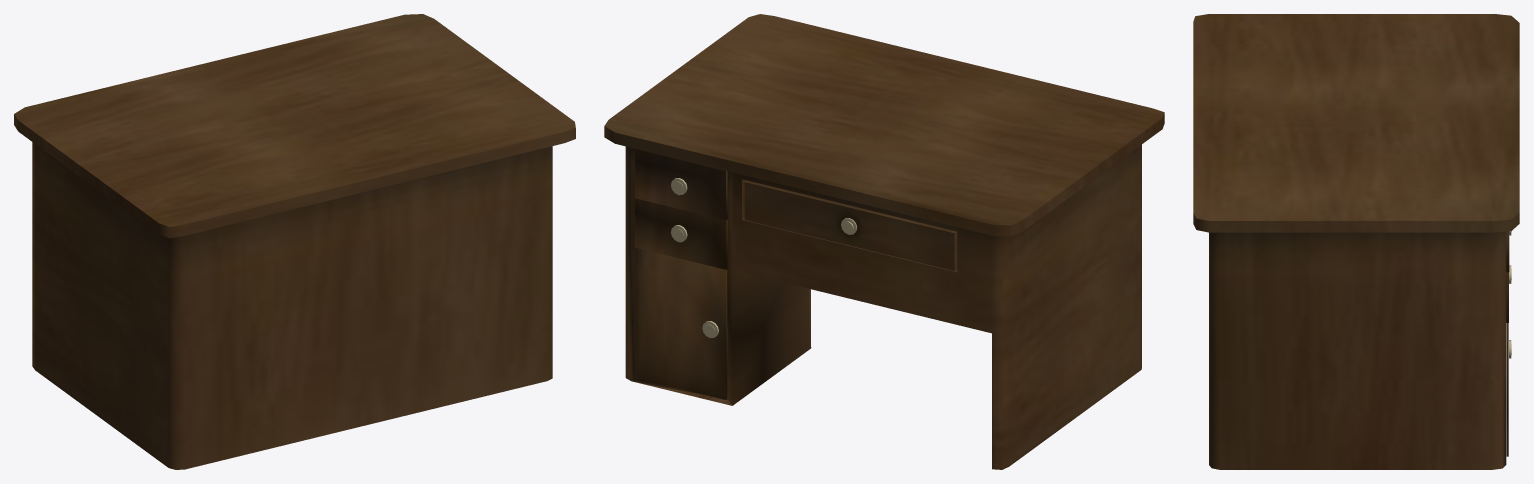
The model's file is interesting desk.fbx.
3 renders of one model, left to right at view 1: azimuth 30°, elevation 25°; view 2: azimuth 150°, elevation 25°; view 3: azimuth 270°, elevation 25°, orthographic. The views are drawn at different scales.
Parts seen in each view (by area): view 1: Desk; view 2: Desk, Desk.004, Desk.001, Desk.002, Desk.003; view 3: Desk, Desk.004.
Boxes of the visible parts, x1=… form: Desk: x1=14, y1=14, x2=575, y2=469; Desk: x1=604, y1=14, x2=1164, y2=469; Desk.004: x1=635, y1=247, x2=727, y2=399; Desk.001: x1=744, y1=180, x2=957, y2=270; Desk.002: x1=635, y1=148, x2=727, y2=220; Desk.003: x1=635, y1=198, x2=727, y2=269; Desk: x1=1193, y1=14, x2=1519, y2=469; Desk.004: x1=1506, y1=323, x2=1508, y2=456.
Size of the model in its own units: 450 by 261 by 300.
